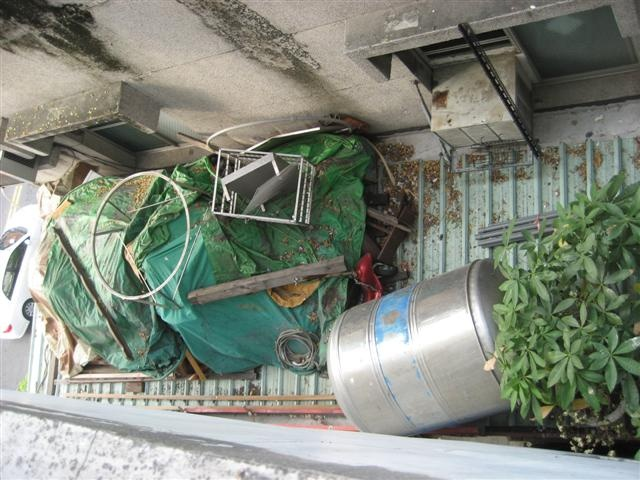plastic_bag: (36, 169, 174, 369), (236, 131, 366, 301), (132, 156, 216, 249)
water_tower: (325, 257, 511, 432)
